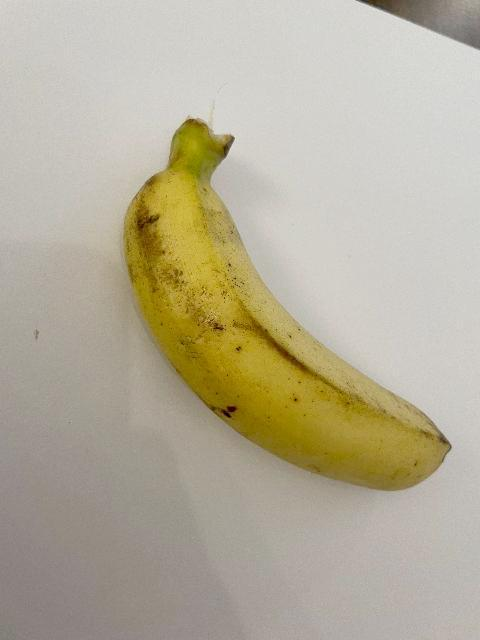banana: (122, 116, 452, 492)
